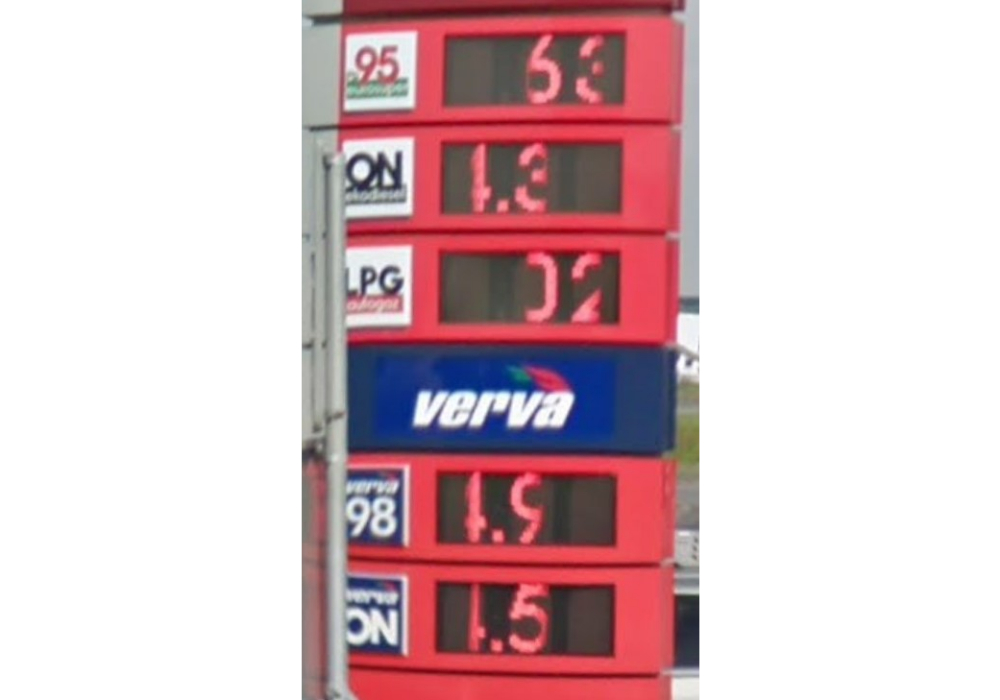LPG: (340, 240, 416, 332)
ON: (336, 130, 416, 222), (338, 565, 410, 659)
PB95: (341, 27, 421, 117)
PB98: (337, 462, 408, 548)
